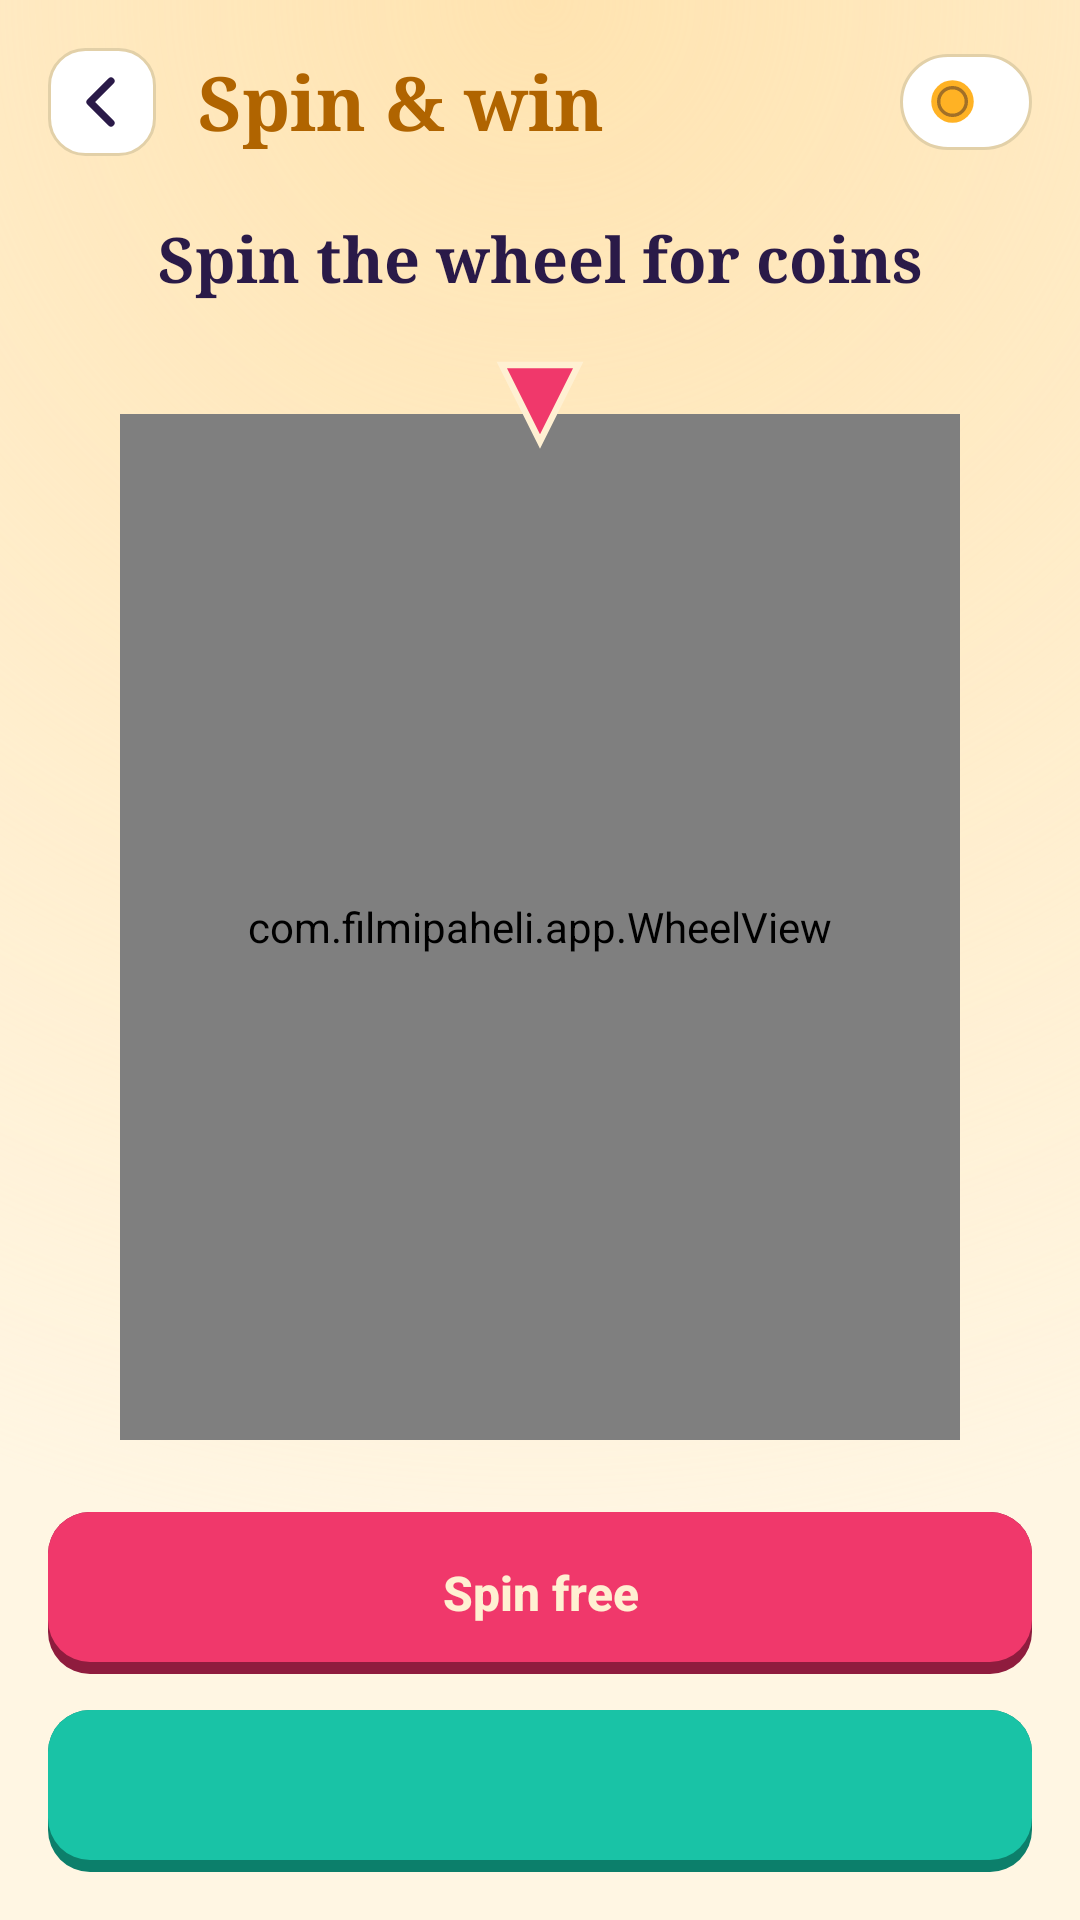

Point at icon controls on the screen. Image size 1080px x 1920px, points as point (x, y).
Back: point (102, 102)
pointer: point (540, 399)
